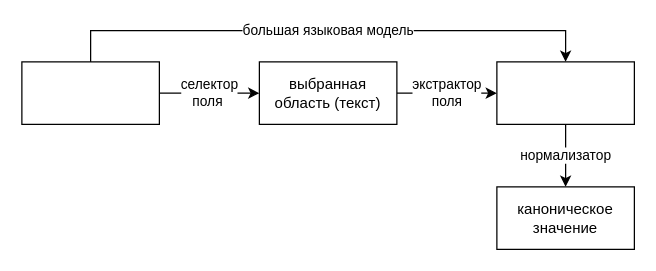
Image size: 656x271. Some labels were removed from this diagram. The shapes that lost their labels are listed below. From the top down, each one's centre as x and y in pixels, then its label:
At (x=90, y=92): "Унифицированное представление".
At (x=565, y=92): "«сырое» значение".
